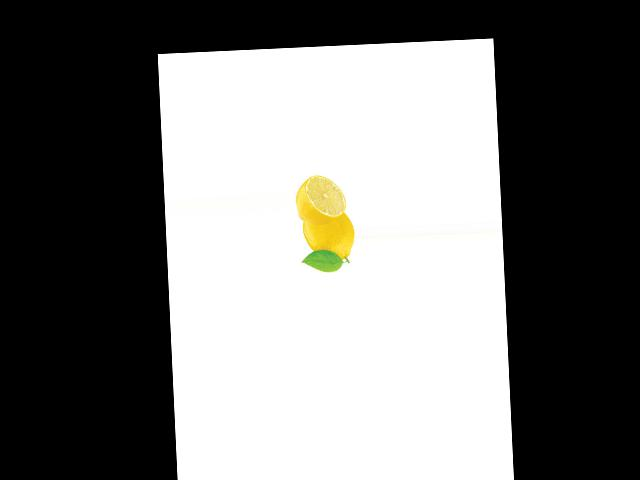lemon: (300, 210, 356, 266)
